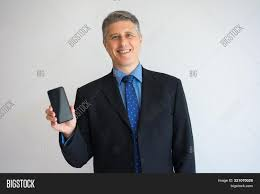white_male: (104, 20, 148, 68)
